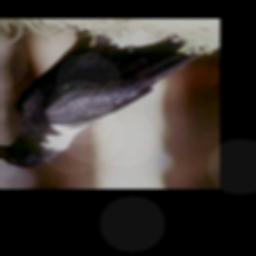Crow: (0, 26, 211, 173)
